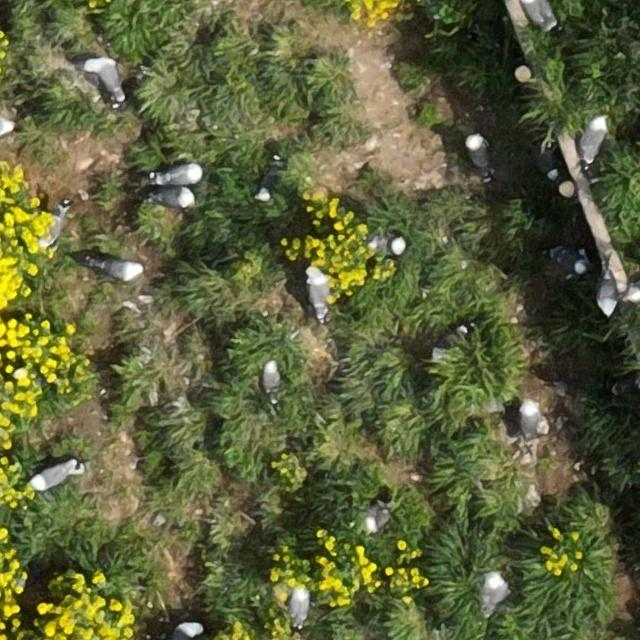umineko: (528, 146, 560, 184), (90, 59, 122, 96), (582, 115, 604, 159), (33, 465, 73, 488), (307, 272, 328, 315), (596, 273, 617, 315), (550, 249, 586, 273), (369, 236, 408, 258), (98, 260, 142, 279), (468, 137, 490, 175), (159, 164, 199, 184), (523, 1, 552, 28), (153, 189, 193, 208), (258, 162, 279, 198), (484, 574, 506, 608), (44, 212, 64, 248), (290, 588, 308, 624), (519, 402, 538, 436), (366, 503, 387, 532), (613, 372, 639, 393), (262, 360, 279, 392), (173, 621, 202, 638), (628, 280, 639, 302), (0, 115, 11, 135)
